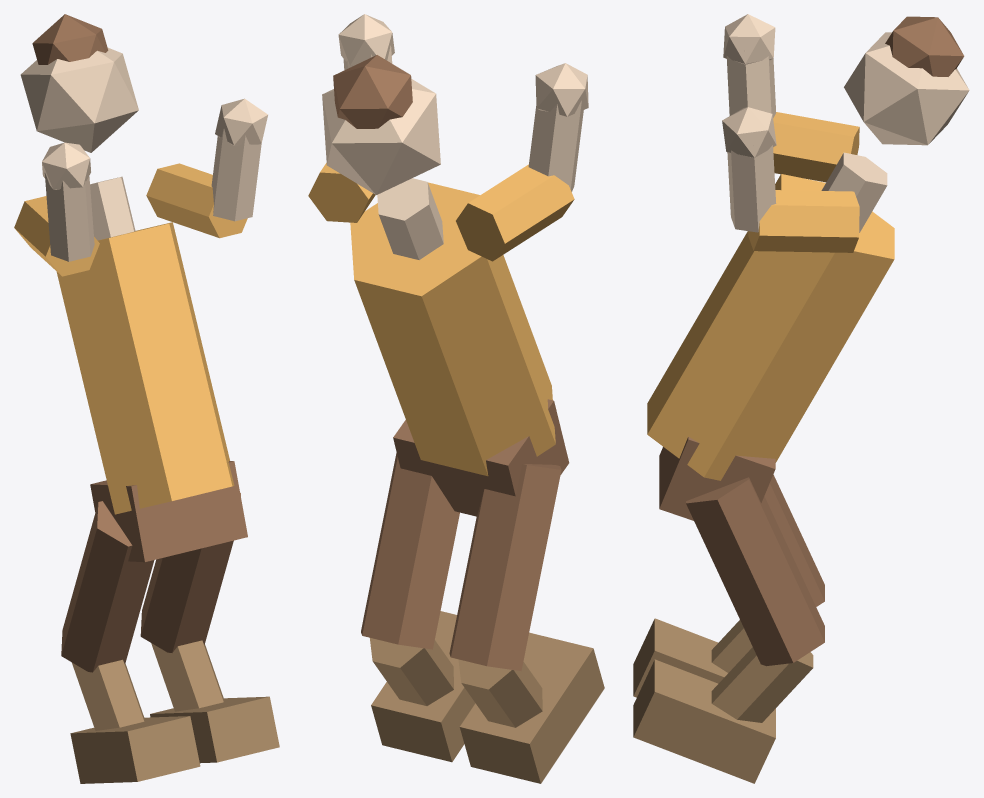
Rendered from pose_dodge_roll_10.glb.
3 renders of one model, left to right at view 1: azimuth 30°, elevation 25°; view 2: azimuth 150°, elevation 25°; view 3: azimuth 270°, elevation 25°, orthographic. The views are drawn at different scales.
Parts seen in each view (by area): view 1: pose; view 2: pose; view 3: pose.
Boxes of the visible parts, x1,y1,x2,y2 form: pose: (14,14,279,783); pose: (308,14,604,783); pose: (633,14,969,783).
Size of the model in its own units: 0.4876 by 1.47 by 0.613.
